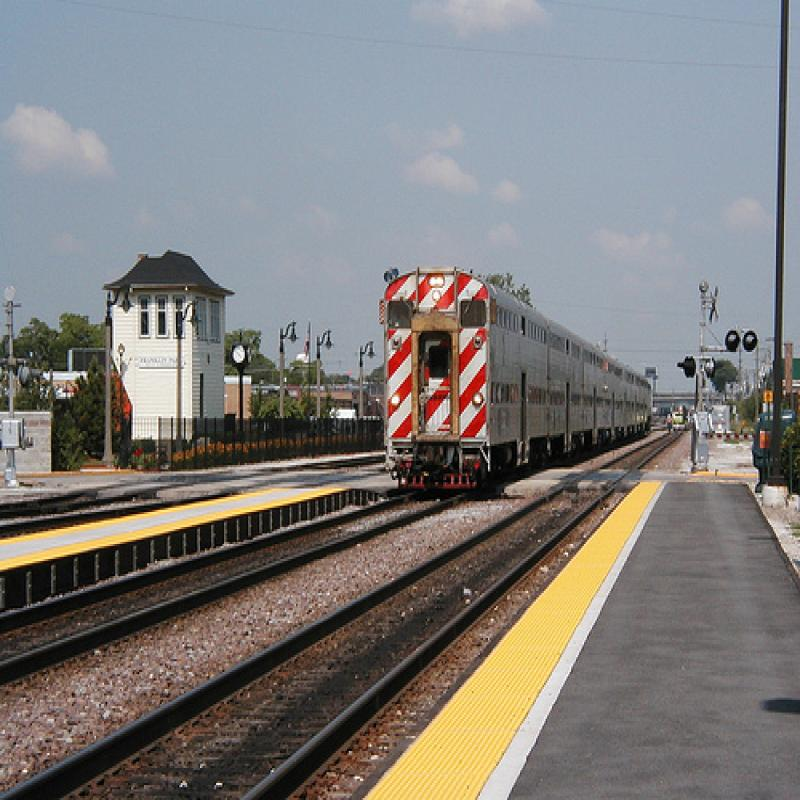train: (388, 272, 654, 496)
